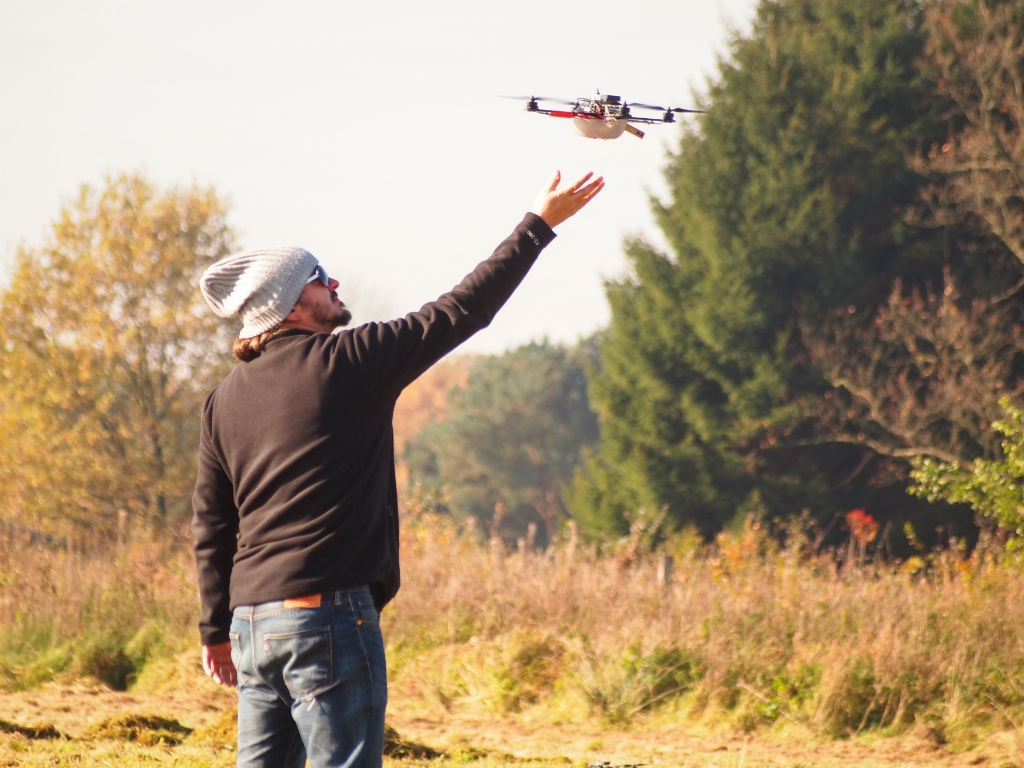drone: (502, 83, 714, 145)
person: (192, 172, 607, 768)
